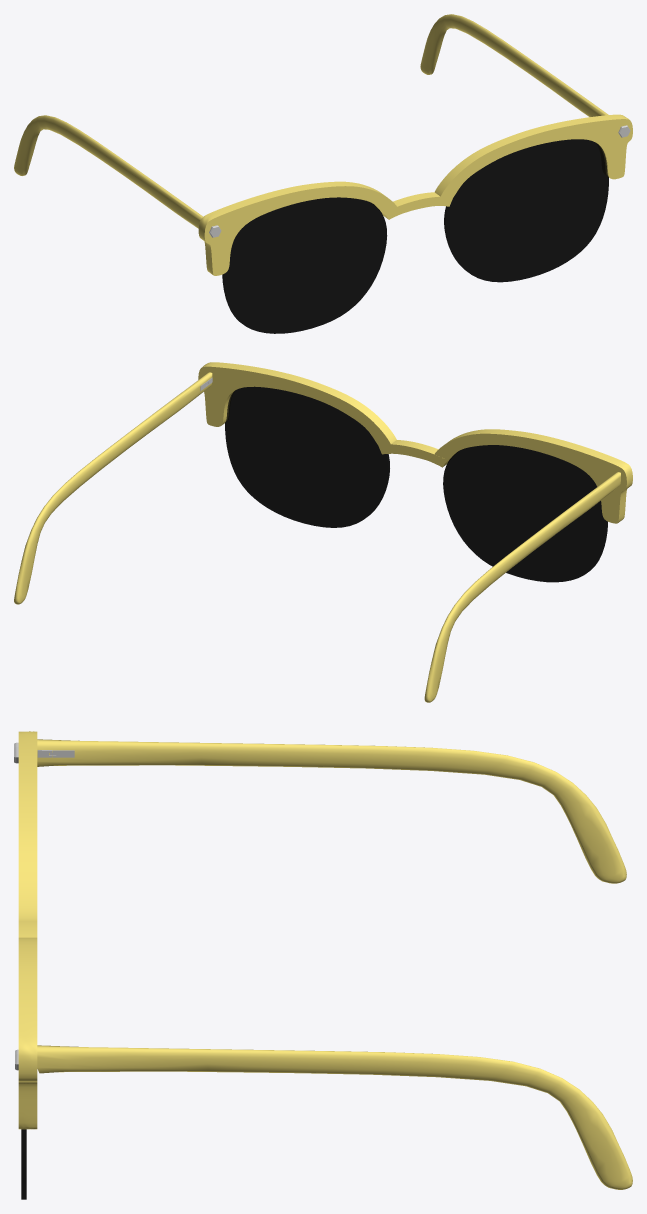
Rendered from Sunglasses.gltf.
3 renders of one model, top to bottom at view 1: azimuth 30°, elevation 25°; view 2: azimuth 150°, elevation 25°; view 3: azimuth 270°, elevation 25°, orthographic. The views are drawn at different scales.
Visible parts, largest first — view 1: Line004; view 2: Line004; view 3: Line004.
Part boxes in pixels (left/top/right/bottom): Line004: left=14, top=14, right=632, bottom=333; Line004: left=14, top=362, right=632, bottom=702; Line004: left=14, top=731, right=632, bottom=1199.
Bounding box in the file's own units: 81.15 × 26.07 × 66.08.
